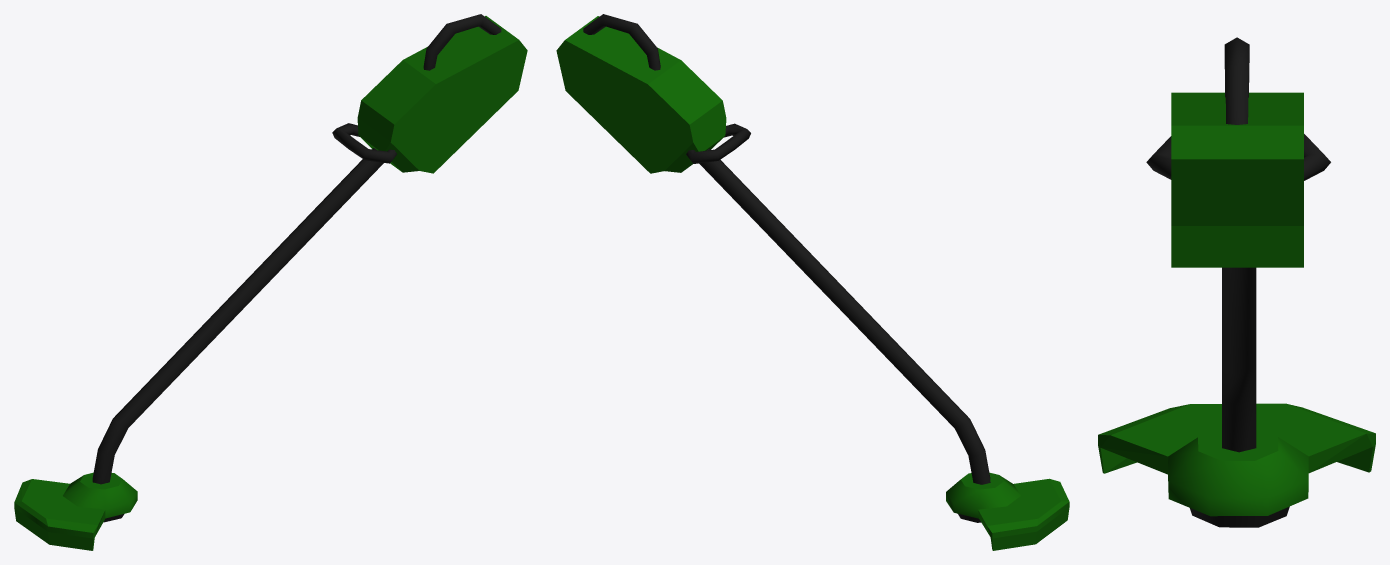
Rendered from Weed Wacker.FBX.
3 renders of one model, left to right at view 1: azimuth 30°, elevation 25°; view 2: azimuth 150°, elevation 25°; view 3: azimuth 270°, elevation 25°, orthographic. The views are drawn at different scales.
Visible parts, largest first — view 1: Weed Wacker; view 2: Weed Wacker; view 3: Weed Wacker.
Part boxes in pixels (x1,y1,x2,y2): Weed Wacker: (14,14,527,550); Weed Wacker: (556,14,1069,550); Weed Wacker: (1098,37,1375,527).
Size of the model in its own units: 96.34 by 78.41 by 24.13.
